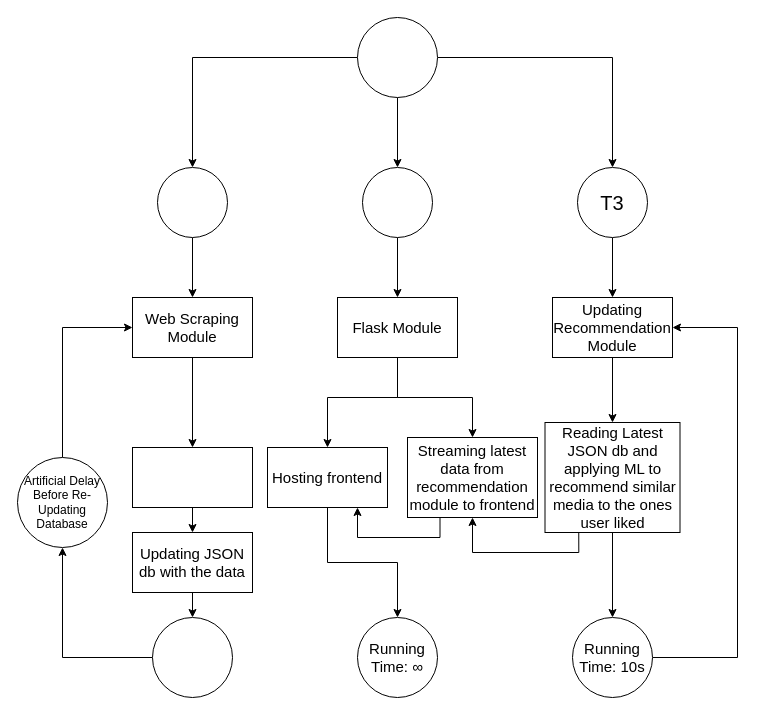
Image size: 763x715. Some labels were removed from this diagram. The centre of each missing label's shape, as x and y in pixels:
"Running Time: 250s" goes at point (192, 657).
"Scraping latest movies and tv shows from IMDb" goes at point (192, 477).
"START" goes at point (397, 57).
"T1" goes at point (192, 202).
"T2" goes at point (397, 202).
